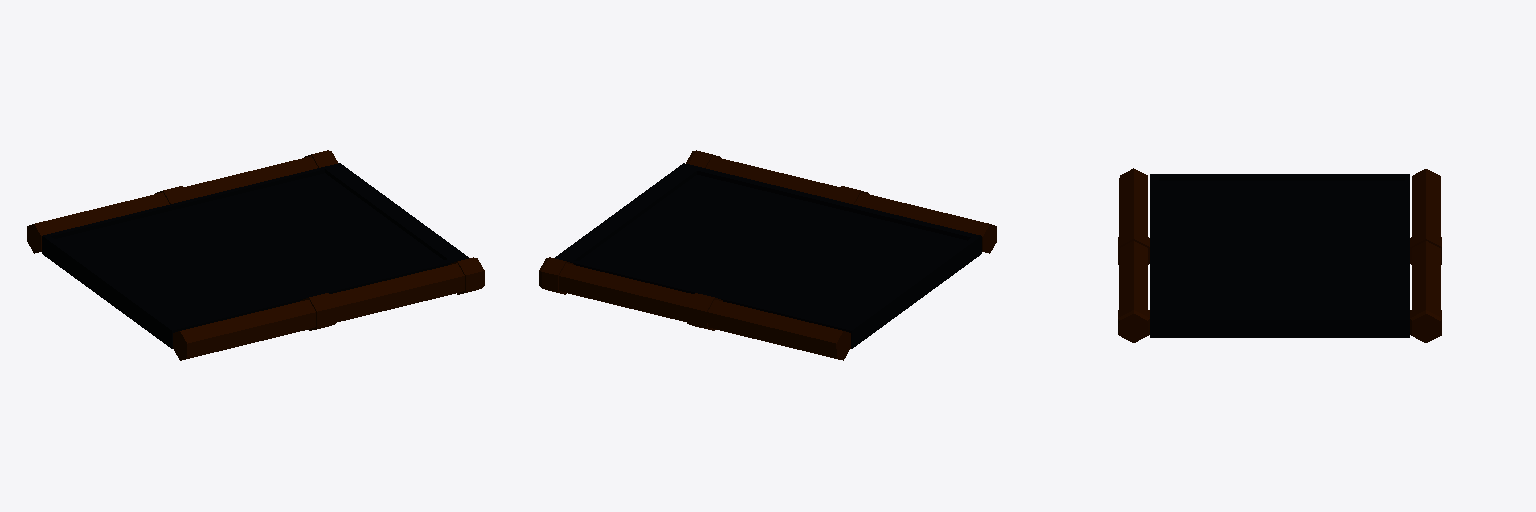
File: platform_pipe_endcap.obj
3 views of the same model, side by side, from view 1: azimuth 30°, elevation 25°; view 2: azimuth 150°, elevation 25°; view 3: azimuth 270°, elevation 25° (orthographic).
Visible parts, largest first — view 1: platform_with_pipe_endcap; view 2: platform_with_pipe_endcap; view 3: platform_with_pipe_endcap.
Part boxes in pixels (x1,y1,x2,y2): platform_with_pipe_endcap: (27,150,484,360); platform_with_pipe_endcap: (539,150,996,360); platform_with_pipe_endcap: (1118,168,1441,342).
Size of the model in its own units: 4.69 by 0.5076 by 4.42.